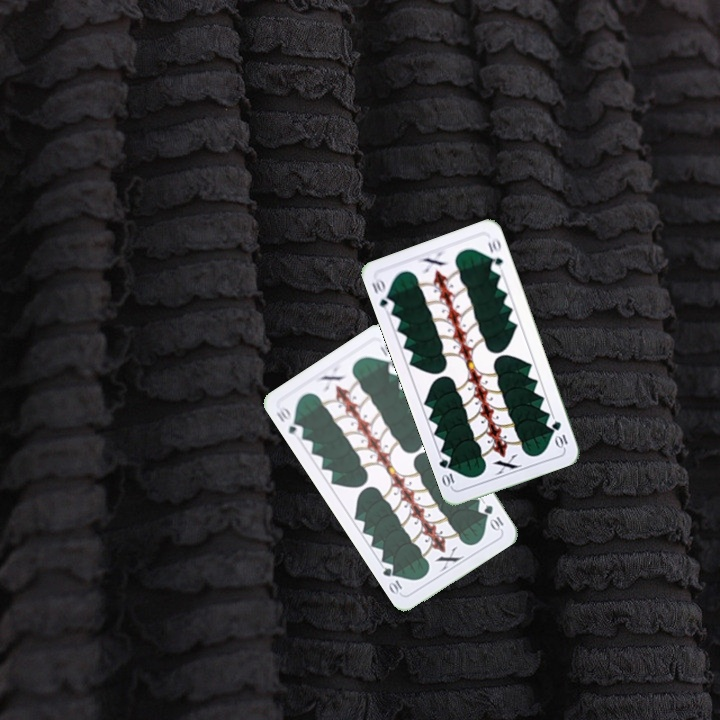G10: (272, 402, 306, 441), (368, 274, 397, 315), (480, 501, 506, 533), (548, 417, 570, 451)
